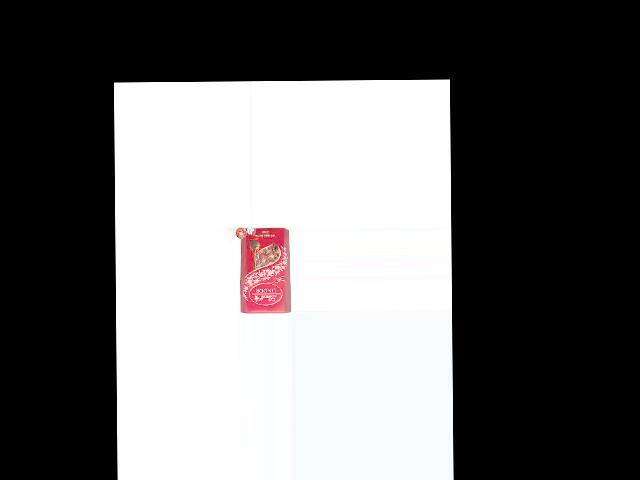chocolate: (234, 228, 290, 313)
